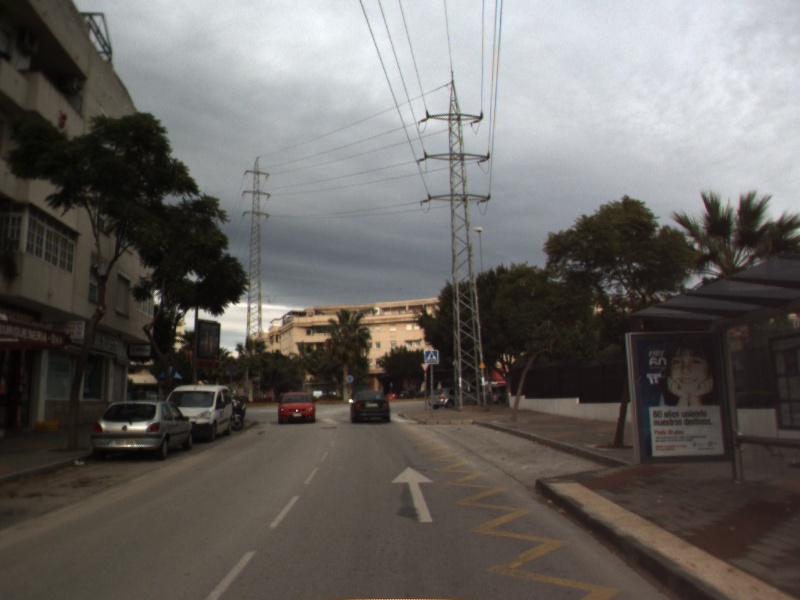STRAIGHT: (389, 464, 437, 524)
